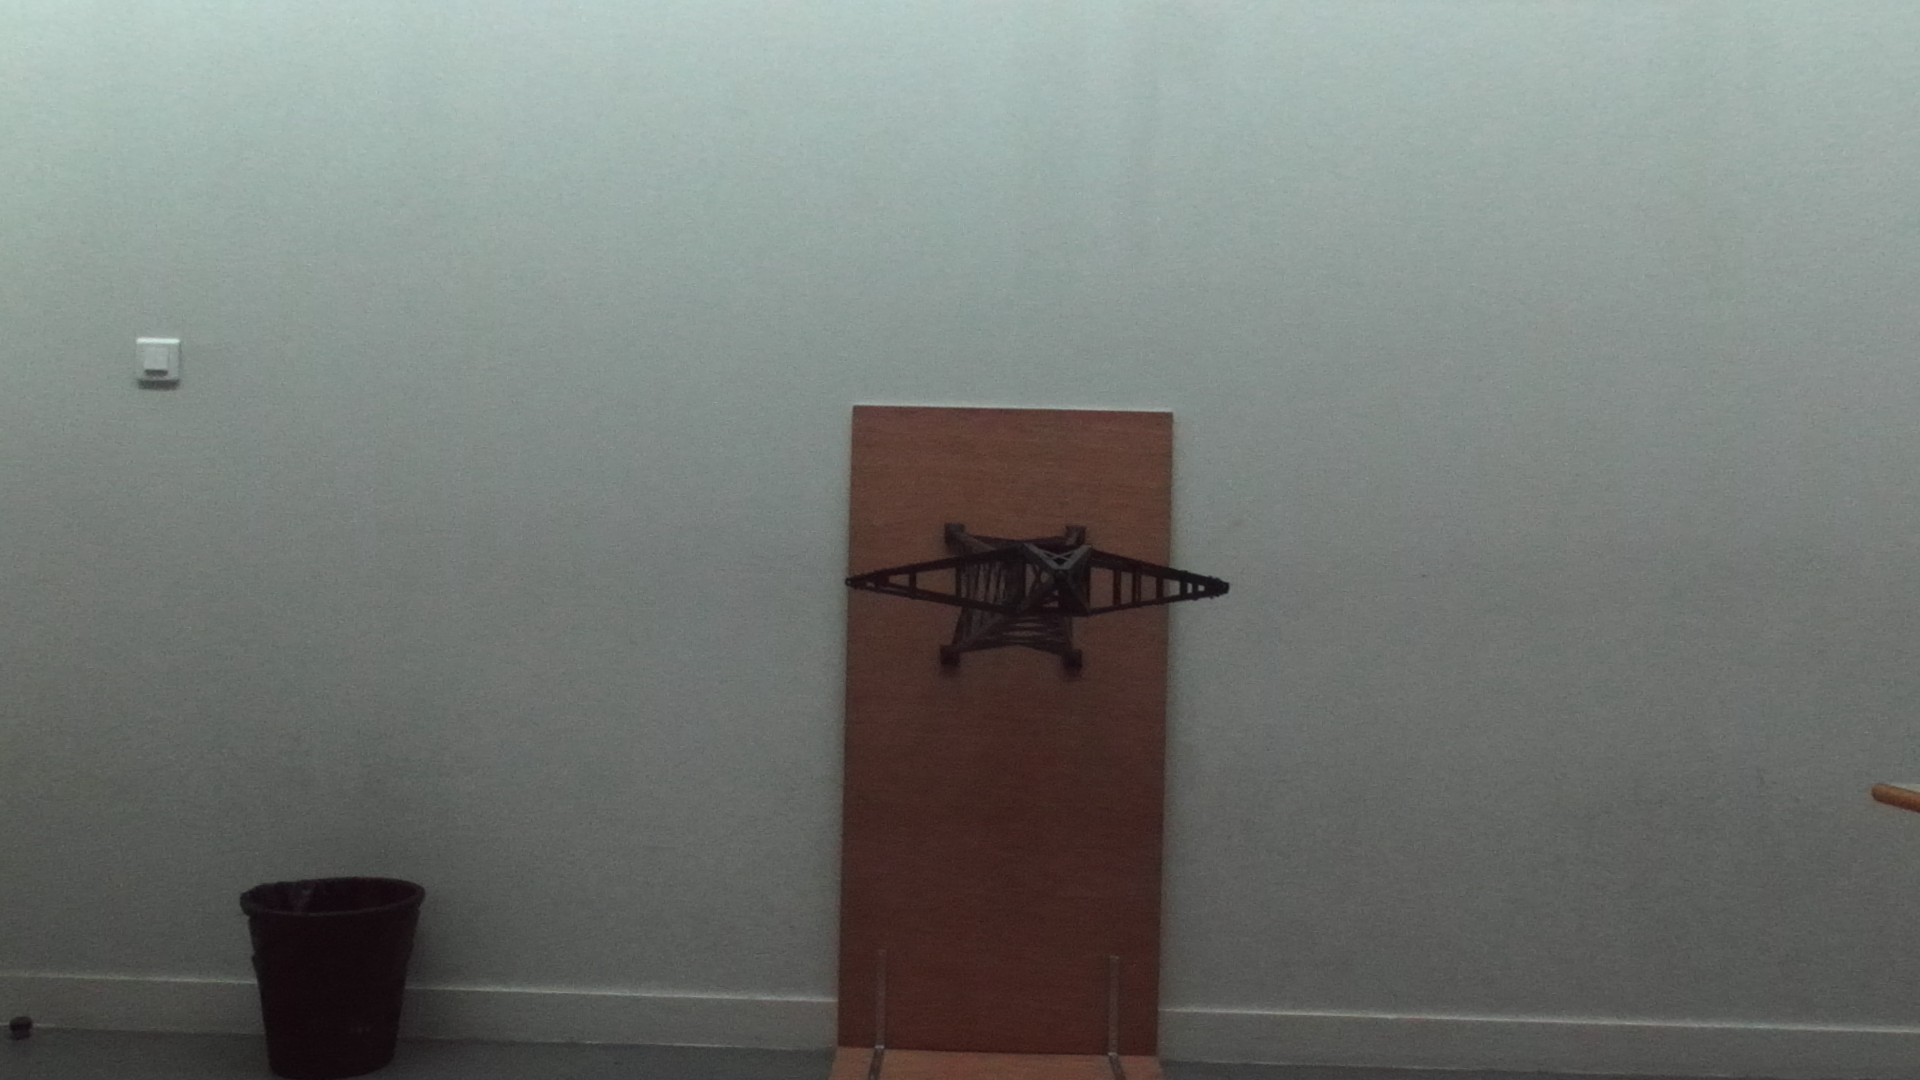pylon_phy: (870, 545, 1232, 622)
